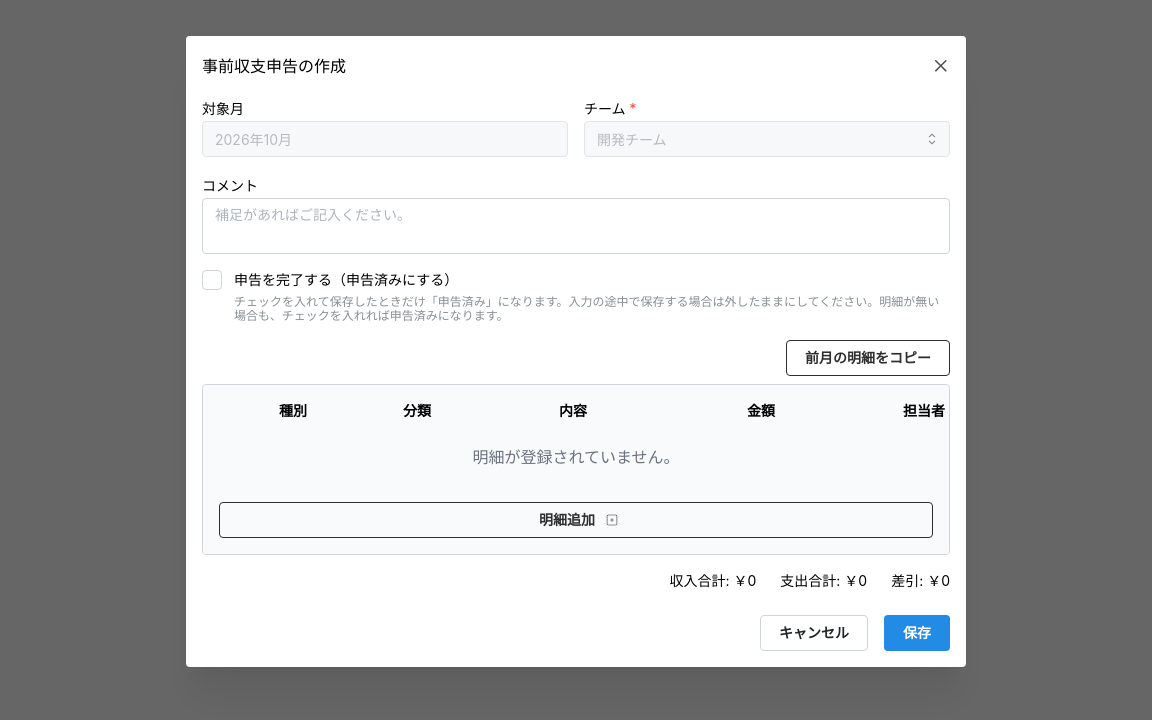
BudgetDeclarationForm › 前月の明細をコピー › 明細が未入力の状態では確認なしで前月の明細（担当者含む）を取り込む
The width and height of the screenshot is (1152, 720).
Click the button "前月の明細をコピー" at x=868, y=358, box [786,340,950,376]
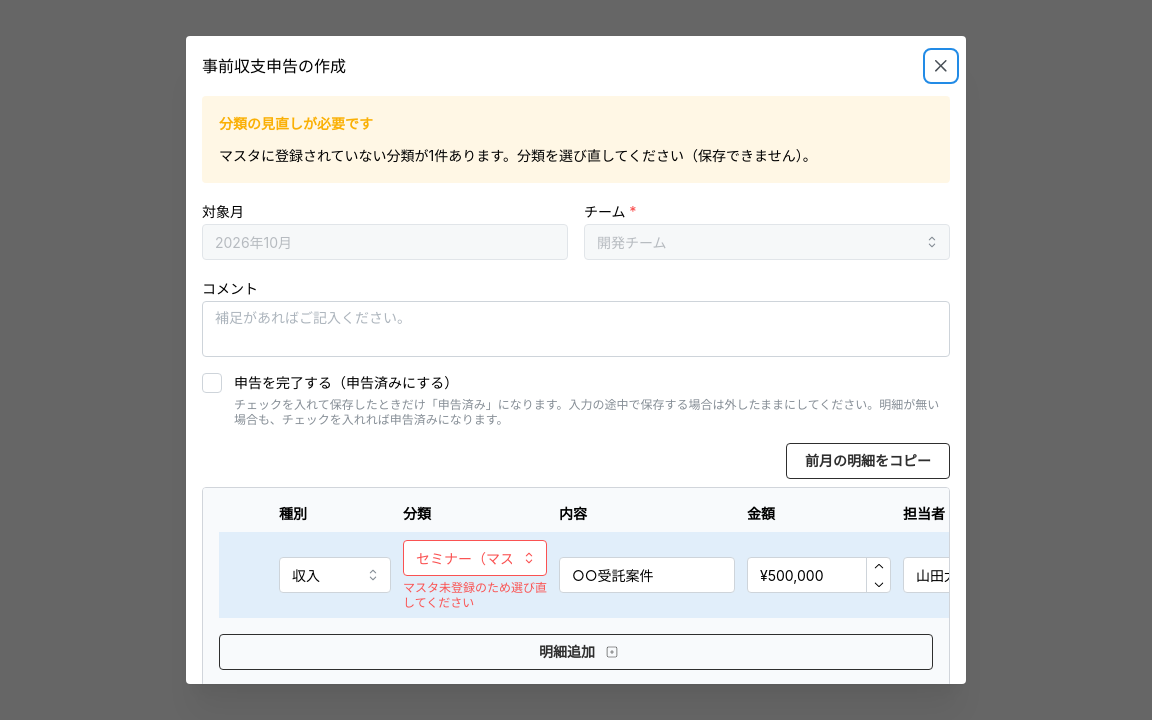
Expected: the 3rd field showing "○○受託案件" is shown, [559,557,735,593]
